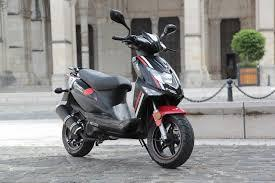motorcycle: (49, 6, 195, 168)
